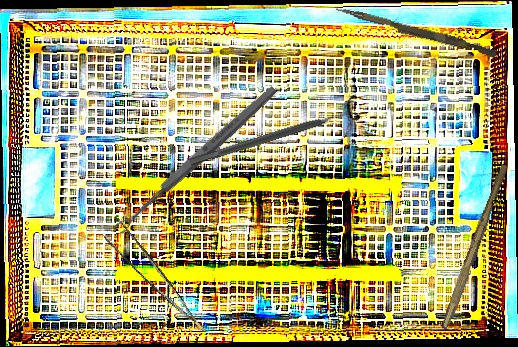Fixation Ring: (185, 94, 363, 176)
Pusher: (334, 6, 498, 58)
Scalpel Handle: (441, 162, 509, 332)
Surgical Spoon: (112, 83, 280, 236)
Tissue Forceps: (97, 212, 206, 347)
